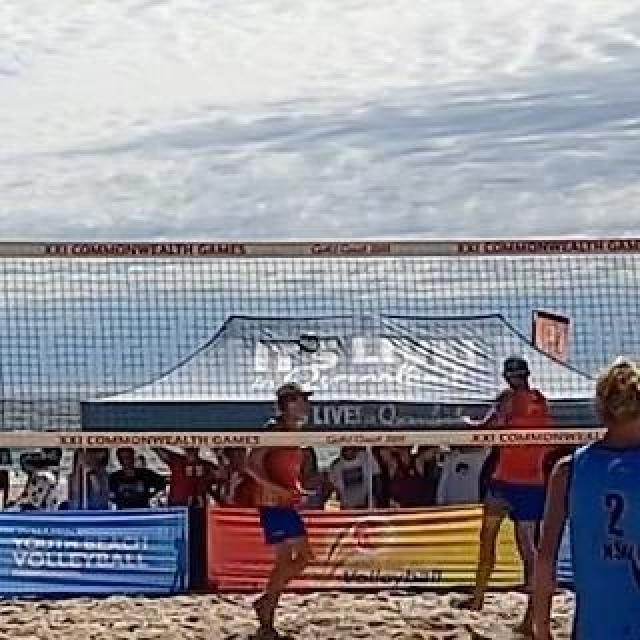volleyball: (299, 333, 319, 353)
